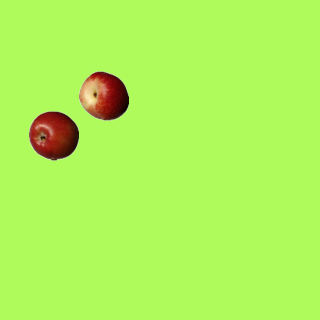Apple Braeburn: (28, 110, 78, 160)
Nectarine: (78, 70, 128, 120)
